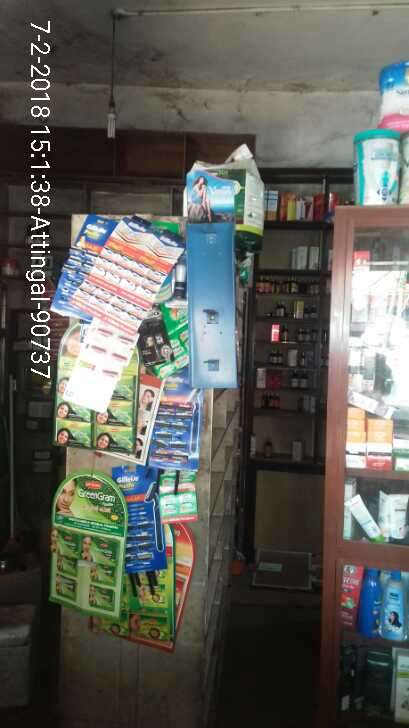reject: (139, 245, 271, 381)
